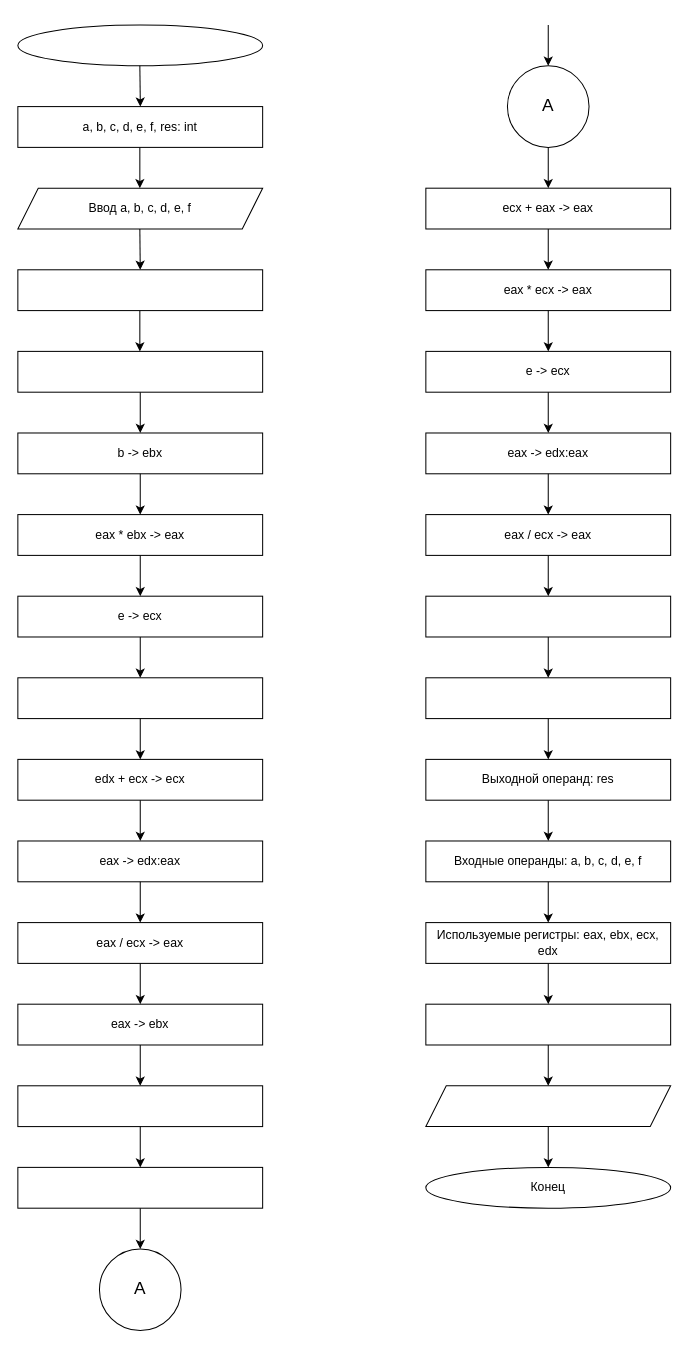
This 689x1348 diagram has some shape labels left out. Each missing label, with the centre of its shape:
"a -> eax" goes at point (140, 371).
"c -> eax" goes at point (140, 1106).
"d -> ecx" goes at point (140, 1187).
"ebx - eax -> ebx" goes at point (548, 616).
"ebx -> res" goes at point (548, 698).
"f -> edx" goes at point (140, 698).
"Вывод res" goes at point (548, 1106).
"Выход из ассемблерной вставки" goes at point (548, 1024).
"Начало" goes at point (140, 45).
"Начало ассемблерной вставки" goes at point (140, 290).
